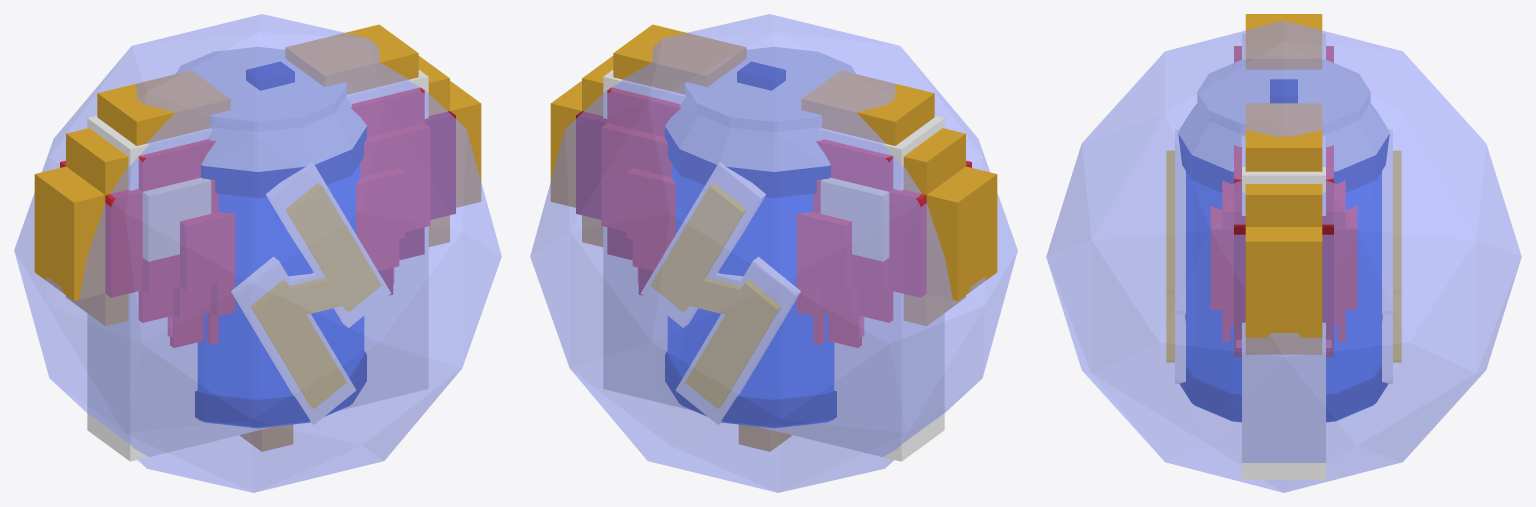
File: south-road-bonuses.glb
3 renders of one model, left to right at view 1: azimuth 30°, elevation 25°; view 2: azimuth 150°, elevation 25°; view 3: azimuth 270°, elevation 25°, orthographic. The views are drawn at different scales.
Parts seen in each view (by area): view 1: Shield, Heart, Coffee, Heal; view 2: Shield, Heart, Coffee, Heal; view 3: Shield, Coffee, Heart, Heal.
Boxes of the visible parts, <box> form: Shield: <box>14,14,501,492</box>; Heart: <box>34,24,481,451</box>; Coffee: <box>176,47,390,428</box>; Heal: <box>87,70,428,461</box>; Shield: <box>530,14,1017,492</box>; Heart: <box>550,24,997,451</box>; Coffee: <box>641,47,855,428</box>; Heal: <box>603,70,944,461</box>; Shield: <box>1046,20,1521,492</box>; Coffee: <box>1166,59,1401,422</box>; Heart: <box>1210,14,1357,356</box>; Heal: <box>1236,33,1331,479</box>.
Size of the model in its own units: 1.7 by 1.7 by 1.7.
